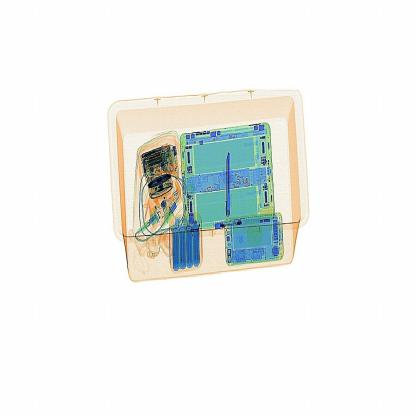pliers: (218, 146, 242, 223)
